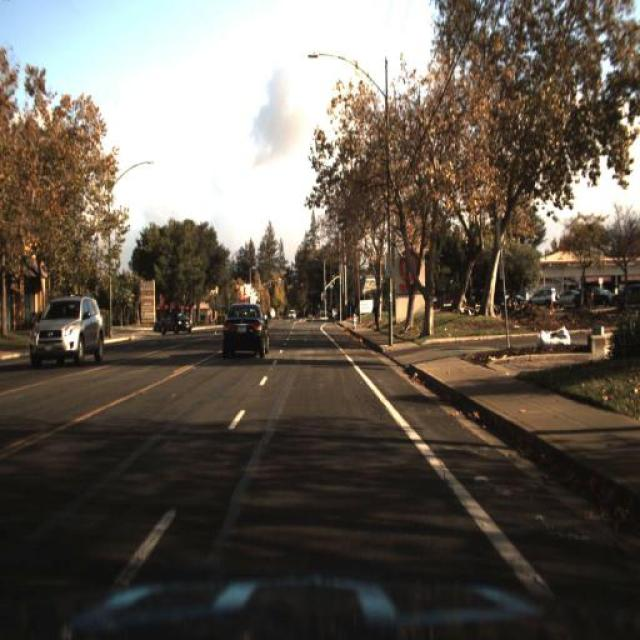car: (30, 294, 106, 368), (222, 300, 270, 360), (156, 311, 190, 335), (583, 282, 613, 306), (613, 284, 639, 310), (554, 290, 581, 308), (532, 286, 556, 306), (328, 308, 342, 320), (320, 308, 332, 318), (288, 310, 296, 320)
trafficLight: (371, 294, 383, 337)
